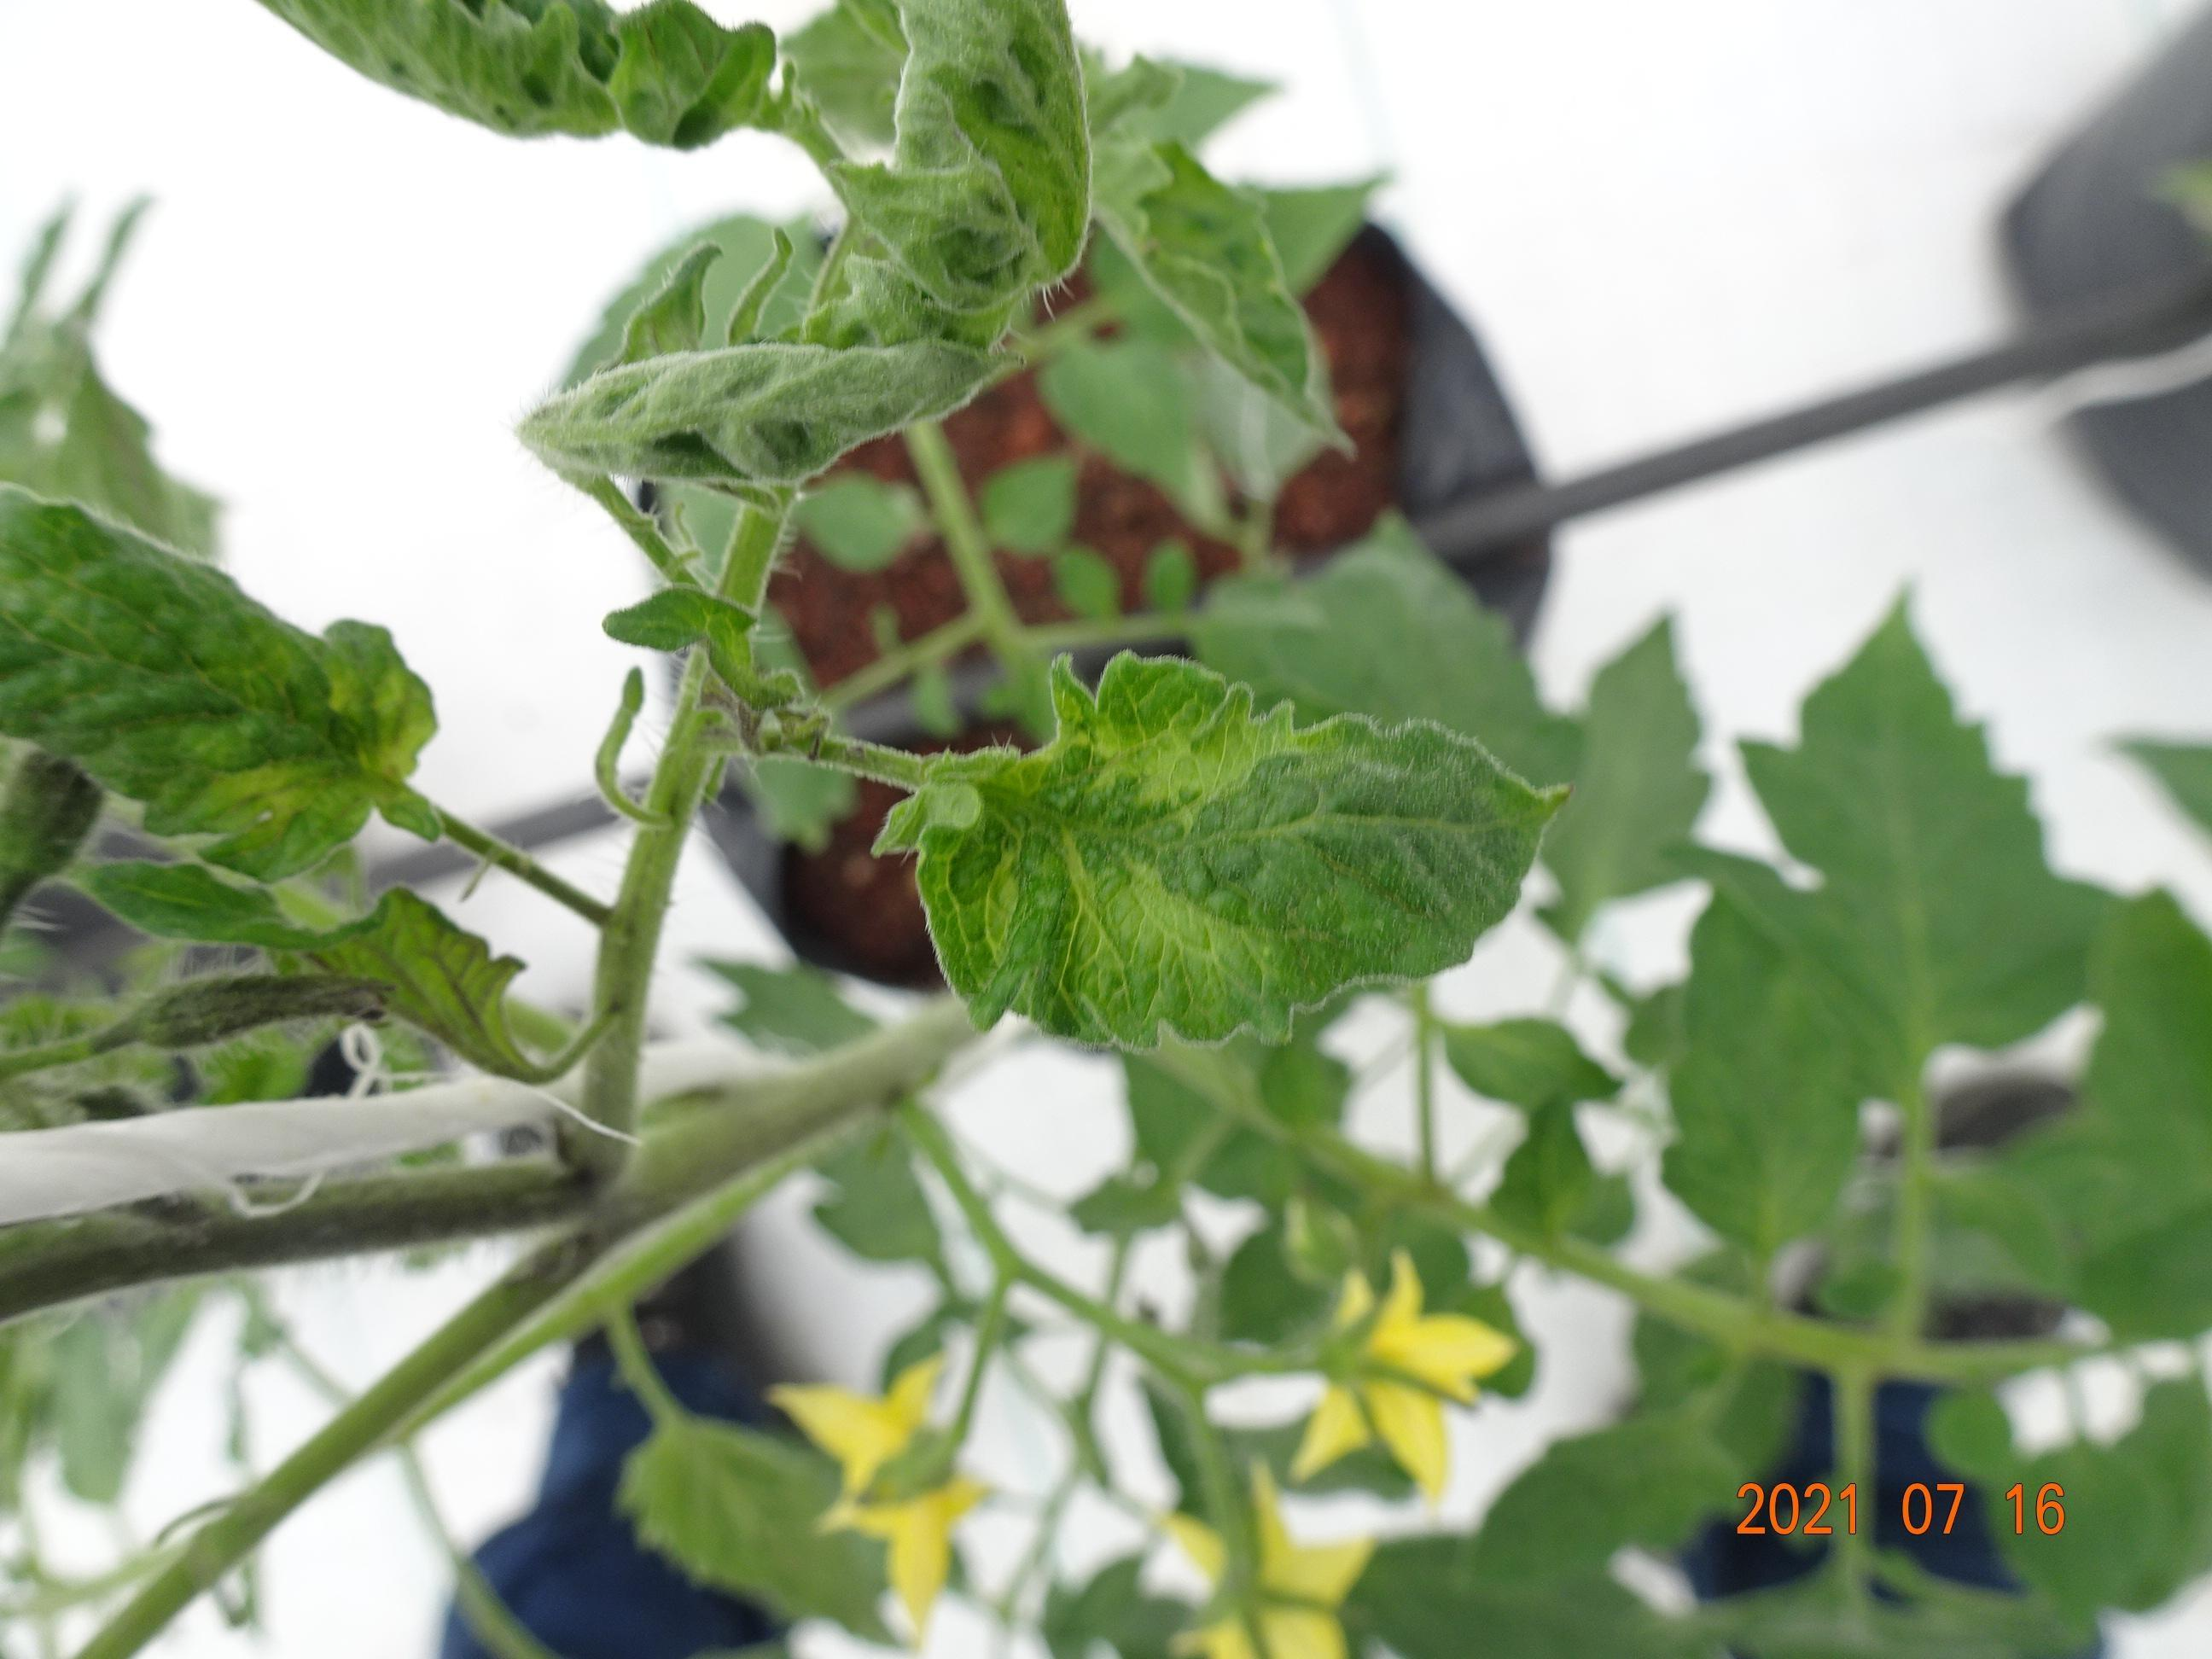Hoja: (827, 0, 1089, 310), (1097, 138, 1346, 443), (517, 335, 1000, 483), (305, 887, 556, 1082), (265, 0, 618, 132), (604, 584, 775, 706)
Hoja rugoso: (880, 652, 1561, 1046), (0, 484, 437, 880), (620, 244, 721, 362), (564, 1140, 624, 1178)
Pedunculo: (582, 650, 723, 1126), (716, 504, 782, 608)
